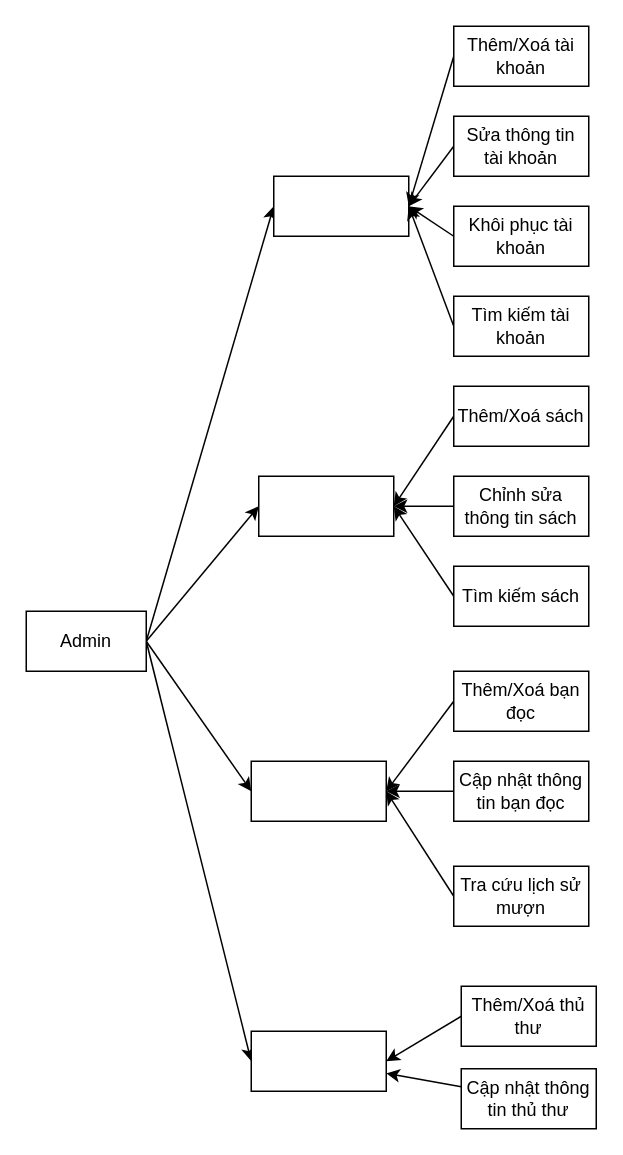
Image size: 623x1155. Some labels were removed from this diagram. The centre of each missing label's shape, as x and y in pixels:
"Quản ký thủ thư" goes at (x=318, y=1060).
"Quản lý bạn đọc" goes at (x=318, y=790).
"Quản lý sách" goes at (x=325, y=505).
"Quản lý tài khoản" goes at (x=340, y=205).
